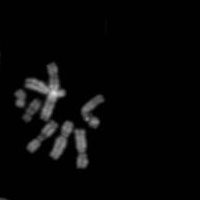chromosome: (41, 62, 59, 121), (27, 120, 57, 153), (50, 120, 73, 159), (81, 94, 104, 129), (25, 79, 64, 97), (75, 129, 89, 168), (23, 99, 40, 123), (14, 88, 26, 107), (0, 197, 13, 200)
